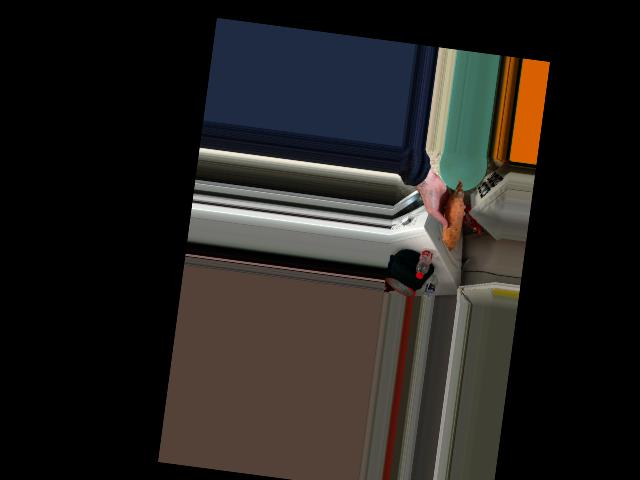sweet_potato: (441, 187, 465, 249)
